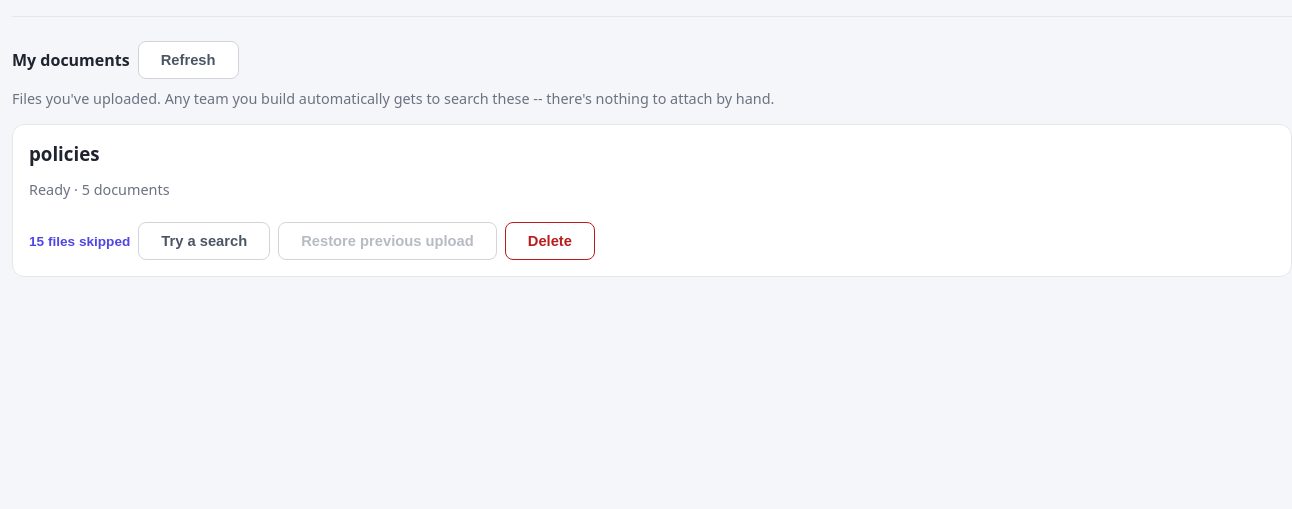
Test: KnowledgeBasesPanel › counts every skipped file, not just the ones it can name
Click the button "15 files skipped" at (80, 241), box [29,234,130,249]
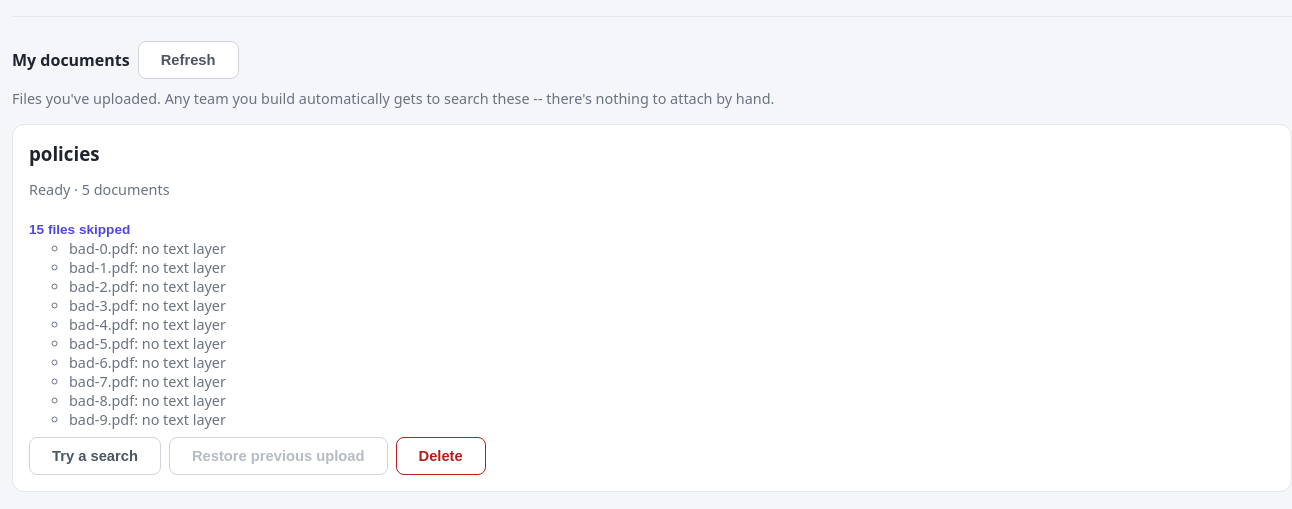
Check: the list item "bad-0.pdf: no text layer" is shown, box [69,239,226,258]
Check: the list item "bad-9.pdf: no text layer" is shown, box [69,410,226,429]
